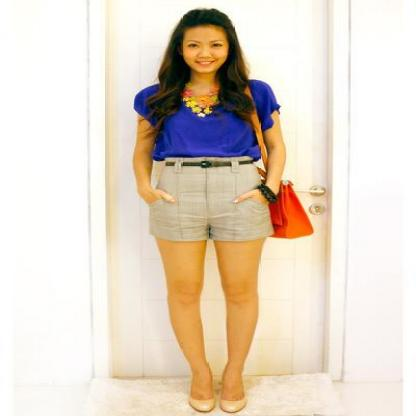bag: (237, 91, 311, 238)
shirt: (134, 80, 280, 161)
shoe: (186, 394, 247, 415)
shorts: (146, 156, 272, 243)
